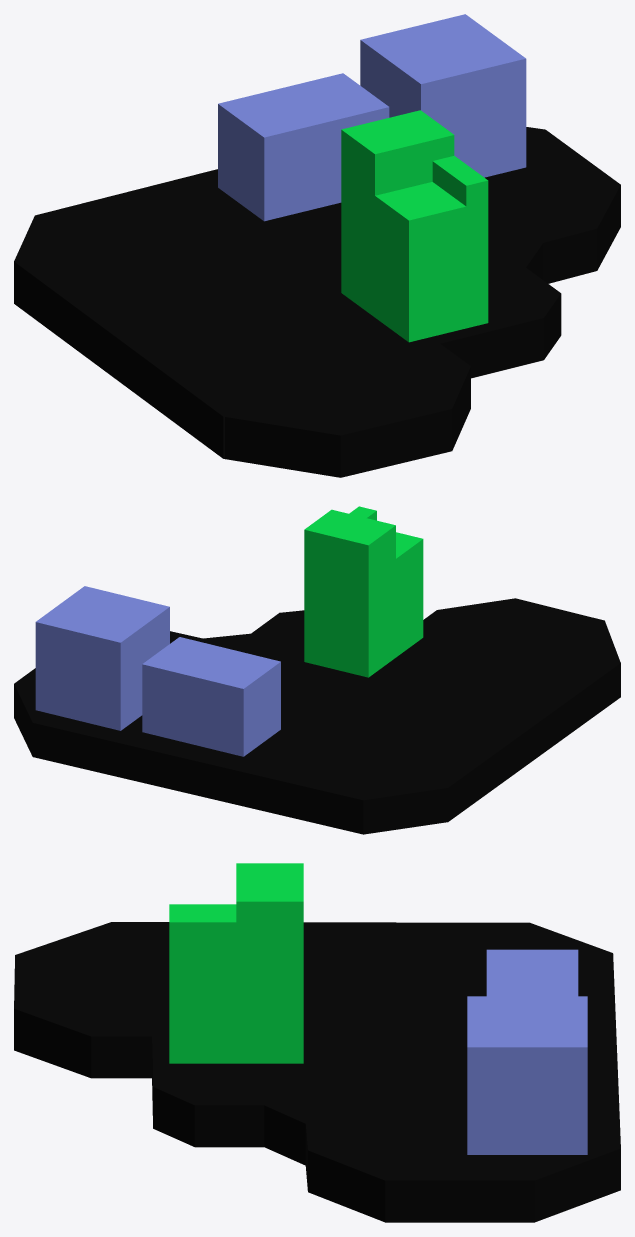
The model's file is abx.glb.
3 views of the same model, one above another, from view 1: azimuth 30°, elevation 25°; view 2: azimuth 150°, elevation 25°; view 3: azimuth 270°, elevation 25° (orthographic). The views are drawn at different scales.
Parts seen in each view (by area): view 1: Cube, Cube.002, Cube.001; view 2: Cube, Cube.002, Cube.001; view 3: Cube, Cube.001, Cube.002.
Boxes of the visible parts, <box> form: Cube: <box>14,127,620,477</box>; Cube.002: <box>218,14,526,221</box>; Cube.001: <box>341,110,488,342</box>; Cube: <box>14,598,620,834</box>; Cube.002: <box>35,586,280,756</box>; Cube.001: <box>304,506,423,677</box>; Cube: <box>14,922,620,1222</box>; Cube.001: <box>169,863,303,1063</box>; Cube.002: <box>467,949,587,1154</box>.
Bounding box in the file's own units: 207 × 76.25 × 206.
Materials: 3 (1 with a texture image).
